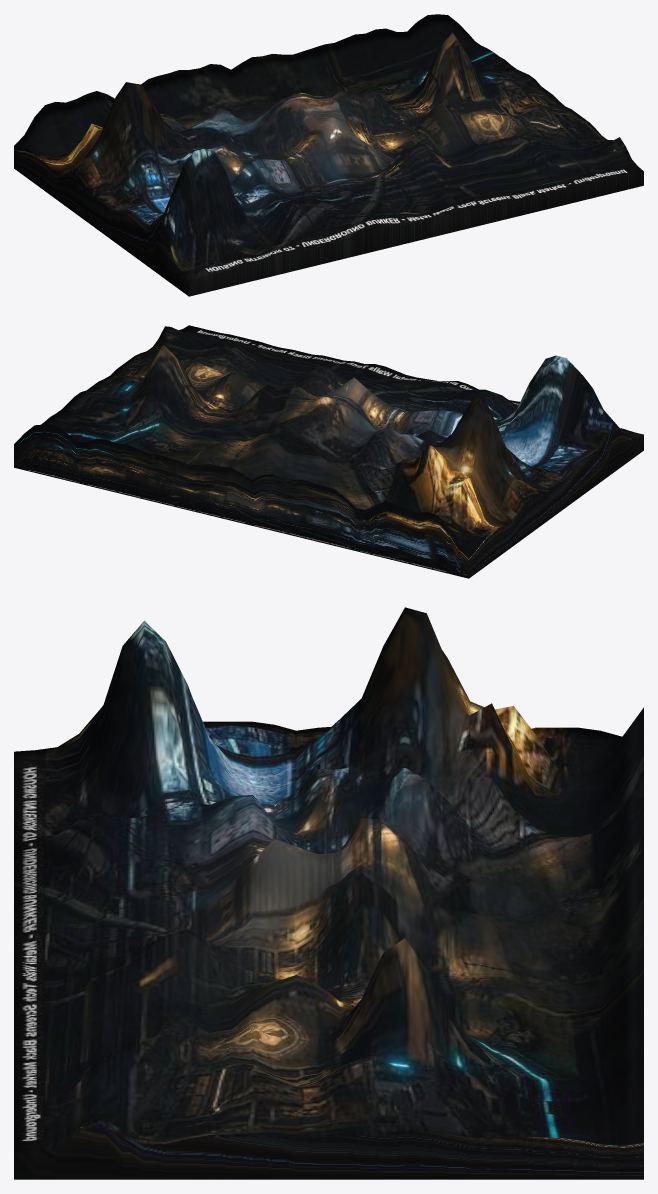
Rendered from INTERIOR_07_Underground_Bunker.glb.
3 renders of one model, top to bottom at view 1: azimuth 30°, elevation 25°; view 2: azimuth 150°, elevation 25°; view 3: azimuth 270°, elevation 25°, orthographic. The views are drawn at different scales.
Visible parts, largest first — view 1: INTERIOR_07_Underground_Bunker; view 2: INTERIOR_07_Underground_Bunker; view 3: INTERIOR_07_Underground_Bunker.
Part boxes in pixels (<box>): INTERIOR_07_Underground_Bunker: <box>14,14,643,296</box>; INTERIOR_07_Underground_Bunker: <box>14,325,643,578</box>; INTERIOR_07_Underground_Bunker: <box>14,607,643,1179</box>.
Size of the model in its own units: 2 by 0.51 by 1.33.
Materials: 1 (1 with a texture image).
